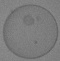small: (22, 15, 35, 27)
